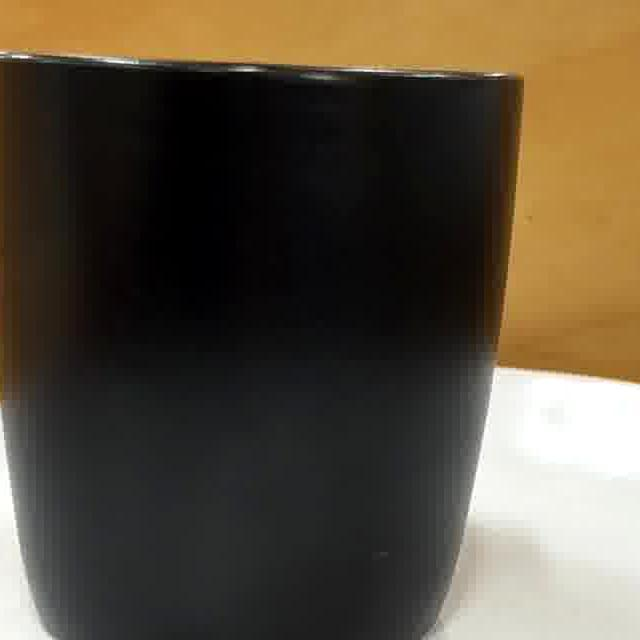cup: (0, 58, 519, 640)
